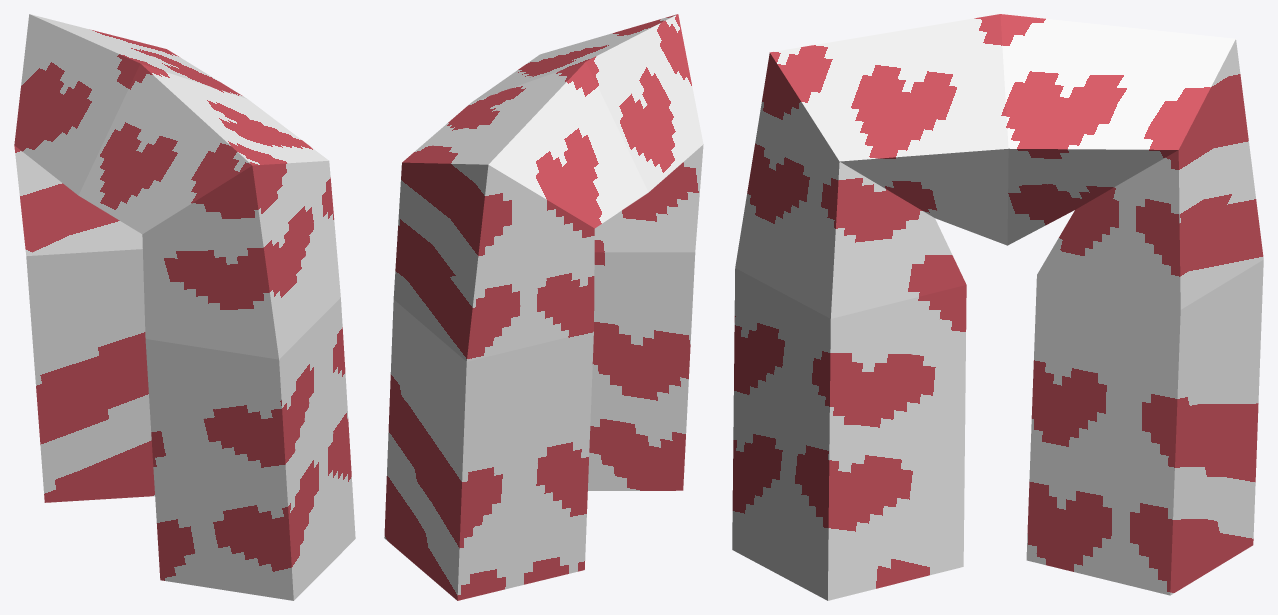
Rendered from underwear.glb.
The picture shows the model from 3 angles, left to right: view 1: azimuth 30°, elevation 25°; view 2: azimuth 150°, elevation 25°; view 3: azimuth 270°, elevation 25°; orthographic projection. The views are drawn at different scales.
Parts seen in each view (by area): view 1: Cube; view 2: Cube; view 3: Cube.
Boxes of the visible parts, x1=… form: Cube: x1=14, y1=14, x2=355, y2=600; Cube: x1=384, y1=14, x2=703, y2=600; Cube: x1=732, y1=14, x2=1263, y2=600.
Size of the model in its own units: 0.8075 by 1.74 by 1.6.
1 material, 1 textured.
